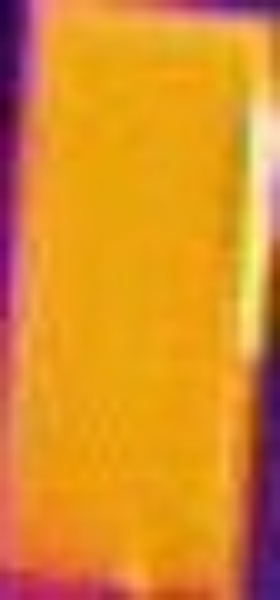Diode: (232, 62, 273, 378)
